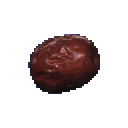gd: (14, 16, 121, 110)
